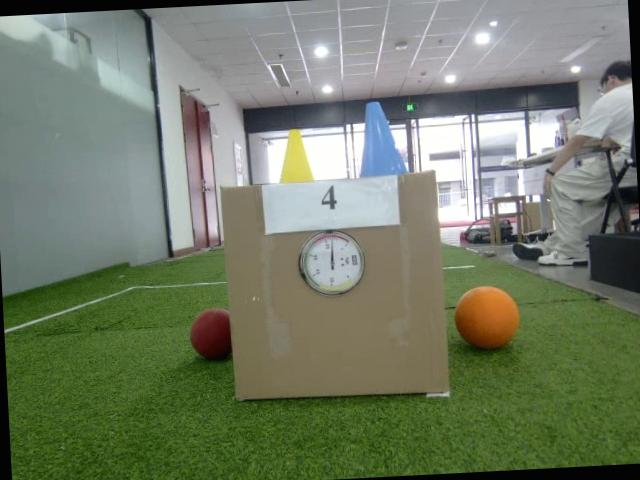4: (320, 184, 338, 210)
Dashboard: (296, 228, 368, 299)
blue_barrel: (356, 100, 409, 179)
orange_ball: (452, 284, 523, 352)
red_ball: (188, 307, 234, 361)
ssi: (350, 254, 359, 266)
yellow_barrel: (276, 128, 314, 183)
